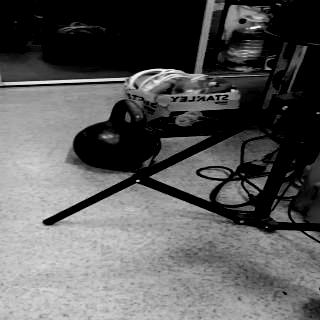kettlebell: (68, 96, 167, 172)
